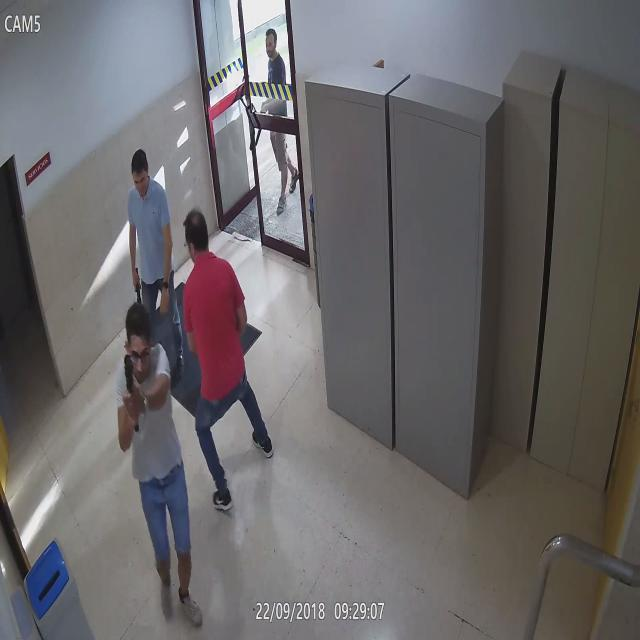Gun: (259, 98, 265, 112)
